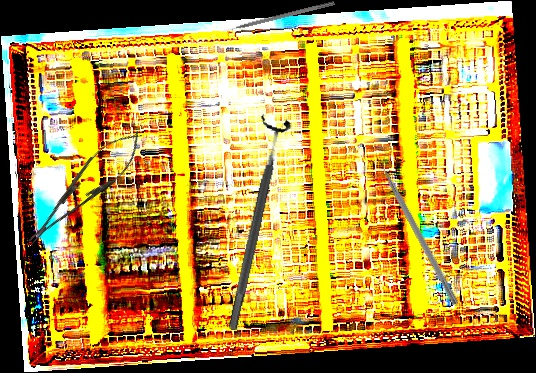Chopper: (373, 149, 468, 307)
Fixation Ring: (215, 113, 294, 334)
Hook Surgical: (222, 0, 335, 33)
Needle Holder: (16, 119, 153, 256)
